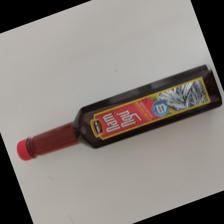Namngu: (16, 65, 224, 160)
